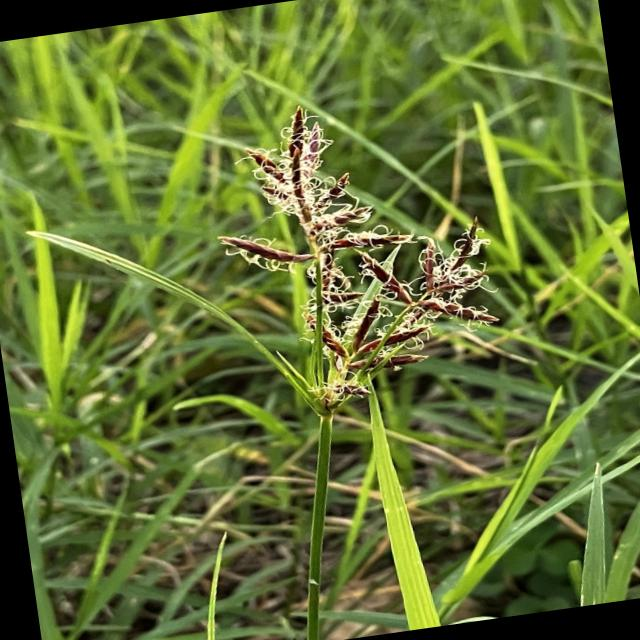cyperus: (197, 78, 530, 443)
